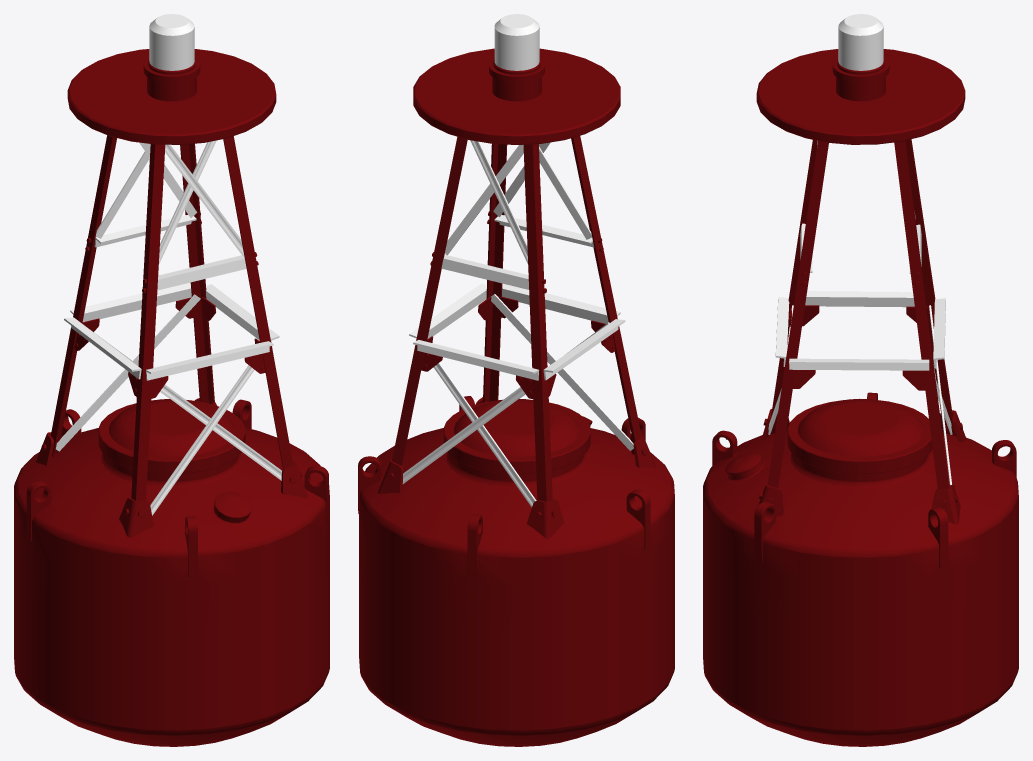
Rendered from Boei.fbx.
3 renders of one model, left to right at view 1: azimuth 30°, elevation 25°; view 2: azimuth 150°, elevation 25°; view 3: azimuth 270°, elevation 25°, orthographic.
Parts seen in each view (by area): view 1: R_0; view 2: R_0; view 3: R_0.
Boxes of the visible parts, x1,y1,x2,y2 form: R_0: [14, 14, 329, 746]; R_0: [358, 14, 674, 746]; R_0: [703, 14, 1018, 746].
Size of the model in its own units: 200 by 492 by 199.
